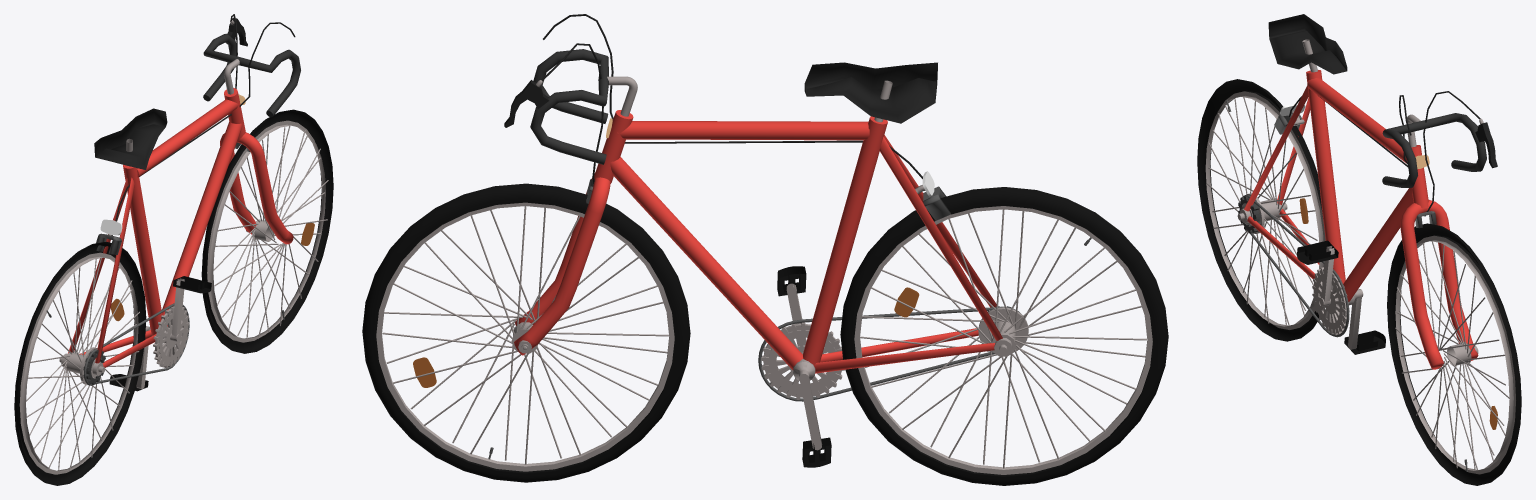
File: bicycle.glb
3 views of the same model, side by side, from view 1: azimuth 30°, elevation 25°; view 2: azimuth 150°, elevation 25°; view 3: azimuth 270°, elevation 25° (orthographic). The views are drawn at different scales.
Visible parts, largest first — view 1: Bicycle, Vert.001, Окружность.008, Окружность.009, Окружность.001, Окружность.003, Окружность.002, Окружность, Плоскость, Vert.002, Плоскость.002, Gear.002 (+3 smaller); view 2: Bicycle, Окружность.008, Окружность.009, Vert.001, Окружность.001, Окружность.003, Плоскость, Окружность, Окружность.002, Vert.002, Плоскость.002, Gear.002 (+3 smaller); view 3: Bicycle, Vert.001, Окружность.008, Окружность.009, Окружность.001, Окружность.003, Окружность, Плоскость, Окружность.002, Плоскость.002, Vert.002, Окружность.007 (+7 smaller).
Boxes of the visible parts, x1=… form: Bicycle: x1=123, y1=88, x2=245, y2=335; Vert.001: x1=68, y1=132, x2=293, y2=367; Окружность.008: x1=201, y1=109, x2=333, y2=353; Окружность.009: x1=14, y1=241, x2=146, y2=485; Окружность.001: x1=213, y1=126, x2=328, y2=338; Окружность.003: x1=26, y1=258, x2=139, y2=470; Окружность.002: x1=19, y1=252, x2=138, y2=474; Окружность: x1=207, y1=120, x2=325, y2=342; Плоскость: x1=94, y1=108, x2=167, y2=169; Vert.002: x1=203, y1=33, x2=300, y2=117; Плоскость.002: x1=109, y1=276, x2=211, y2=391; Gear.002: x1=153, y1=306, x2=189, y2=368; Bicycle: x1=594, y1=110, x2=887, y2=369; Окружность.008: x1=362, y1=183, x2=690, y2=482; Окружность.009: x1=840, y1=187, x2=1168, y2=485; Vert.001: x1=514, y1=135, x2=1002, y2=373; Окружность.001: x1=382, y1=206, x2=668, y2=464; Окружность.003: x1=860, y1=209, x2=1146, y2=468; Плоскость: x1=804, y1=62, x2=937, y2=123; Окружность: x1=376, y1=202, x2=674, y2=471; Окружность.002: x1=854, y1=206, x2=1152, y2=474; Vert.002: x1=530, y1=49, x2=608, y2=164; Плоскость.002: x1=777, y1=266, x2=831, y2=467; Gear.002: x1=761, y1=322, x2=844, y2=399; Bicycle: x1=1306, y1=70, x2=1428, y2=301; Vert.001: x1=1244, y1=85, x2=1478, y2=369; Окружность.008: x1=1387, y1=223, x2=1521, y2=485; Окружность.009: x1=1197, y1=79, x2=1323, y2=341; Окружность.001: x1=1395, y1=241, x2=1509, y2=470; Окружность.003: x1=1206, y1=97, x2=1317, y2=325; Окружность: x1=1395, y1=235, x2=1515, y2=474; Плоскость: x1=1268, y1=14, x2=1347, y2=74; Окружность.002: x1=1205, y1=91, x2=1325, y2=329; Плоскость.002: x1=1297, y1=240, x2=1385, y2=354; Vert.002: x1=1382, y1=113, x2=1486, y2=187; Окружность.007: x1=1240, y1=195, x2=1349, y2=337.
Bounding box in the file's own units: 5.79 × 4.1 × 3.26.
